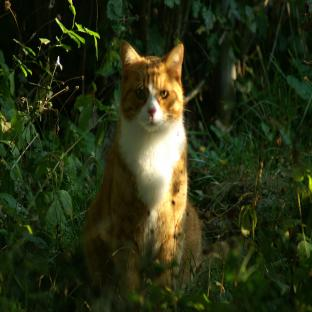Animal: (83, 41, 201, 294)
